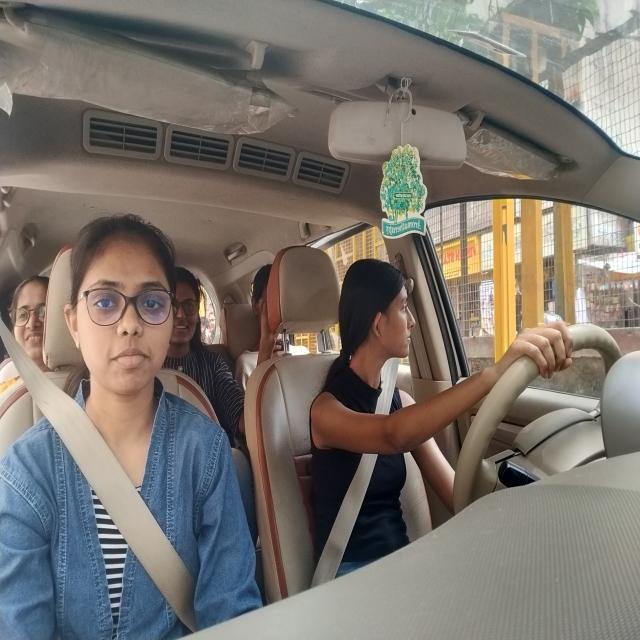LeftRight: (339, 252, 417, 370)
person: (67, 215, 177, 405), (9, 278, 54, 374), (173, 258, 204, 354), (253, 258, 276, 342)
